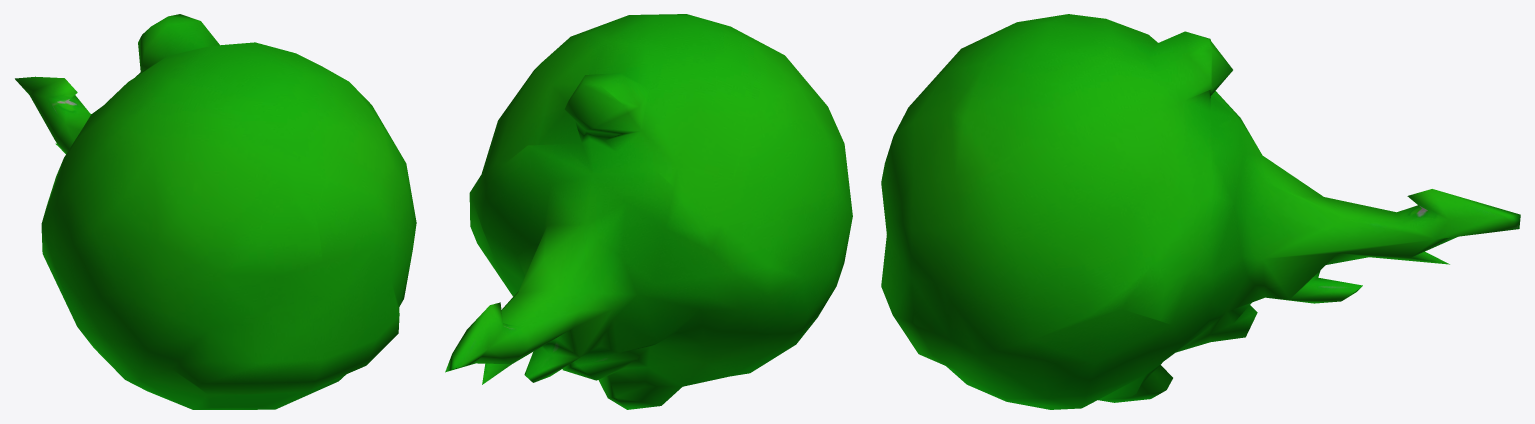
Rendered from ProyectilEnemigo.fbx.
3 views of the same model, side by side, from view 1: azimuth 30°, elevation 25°; view 2: azimuth 150°, elevation 25°; view 3: azimuth 270°, elevation 25° (orthographic). The views are drawn at different scales.
Parts seen in each view (by area): view 1: tripo_node_b25adb37; view 2: tripo_node_b25adb37; view 3: tripo_node_b25adb37.
Part boxes in pixels (left/top/right/bottom): tripo_node_b25adb37: left=15, top=14, right=416, bottom=409; tripo_node_b25adb37: left=445, top=14, right=852, bottom=409; tripo_node_b25adb37: left=881, top=14, right=1520, bottom=409.
Bounding box in the file's own units: 59.26 × 61.63 × 97.16.
Materials: 1 (1 with a texture image).
